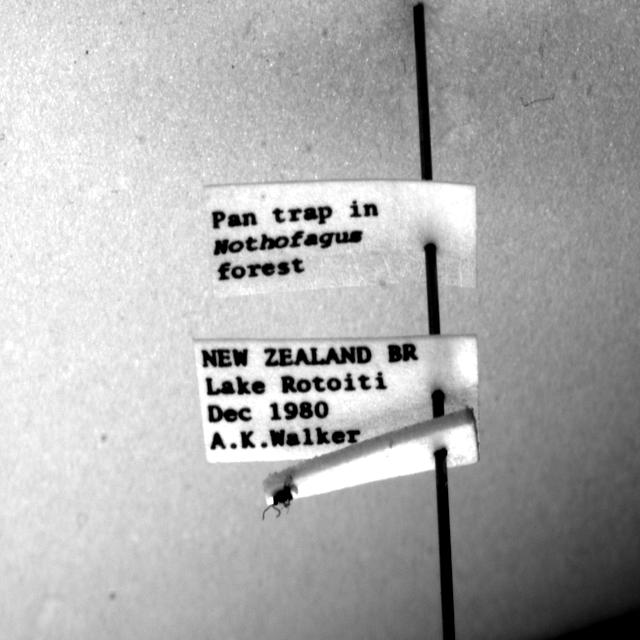typed_label: (194, 336, 479, 463), (205, 180, 476, 296)
